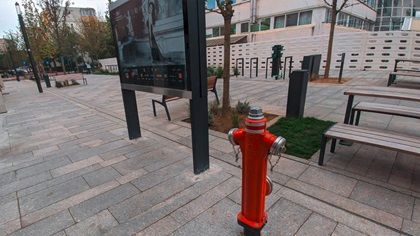bench: (330, 88, 420, 159), (392, 54, 420, 83), (53, 74, 97, 90)
bollard: (289, 72, 306, 123)
firehdyrant: (236, 108, 275, 235)
